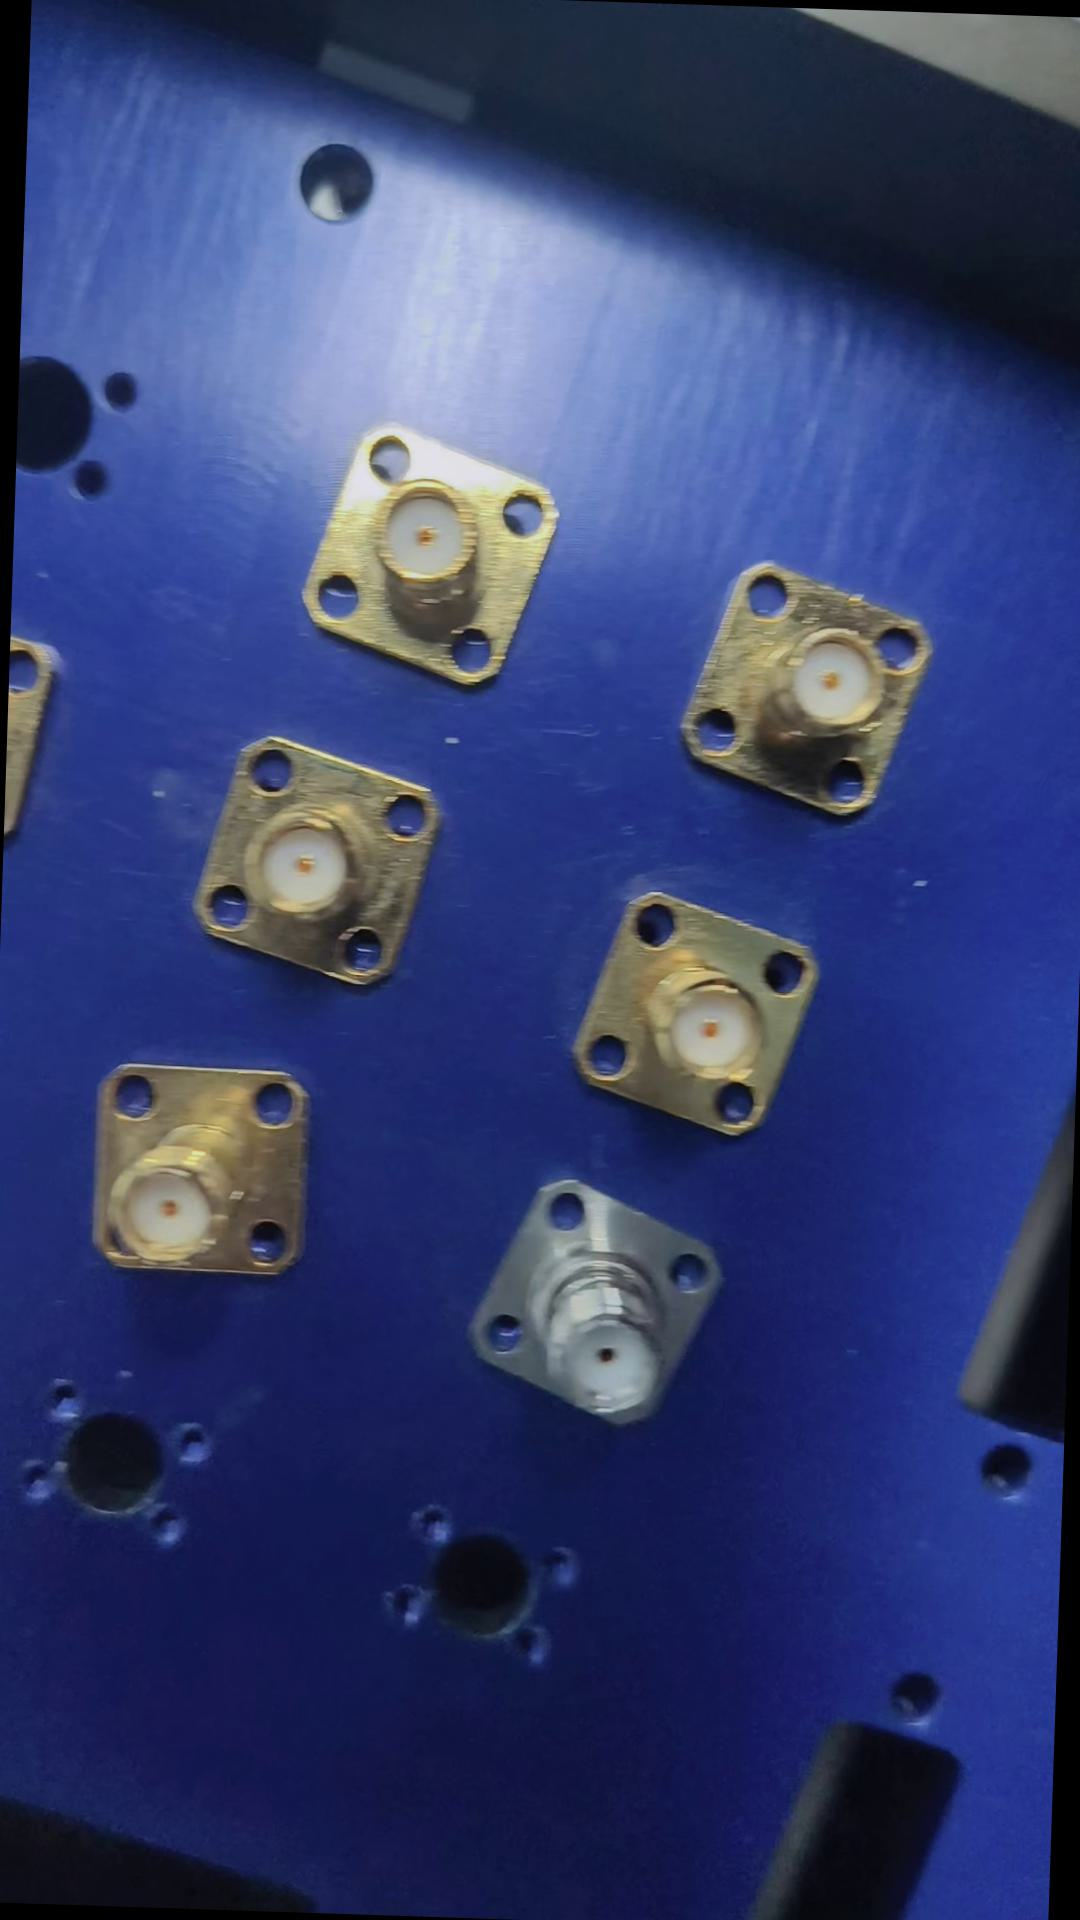SMA: (294, 417, 566, 690), (676, 554, 942, 819), (459, 1175, 721, 1436), (185, 735, 440, 994), (560, 887, 815, 1139), (82, 1055, 311, 1284)
